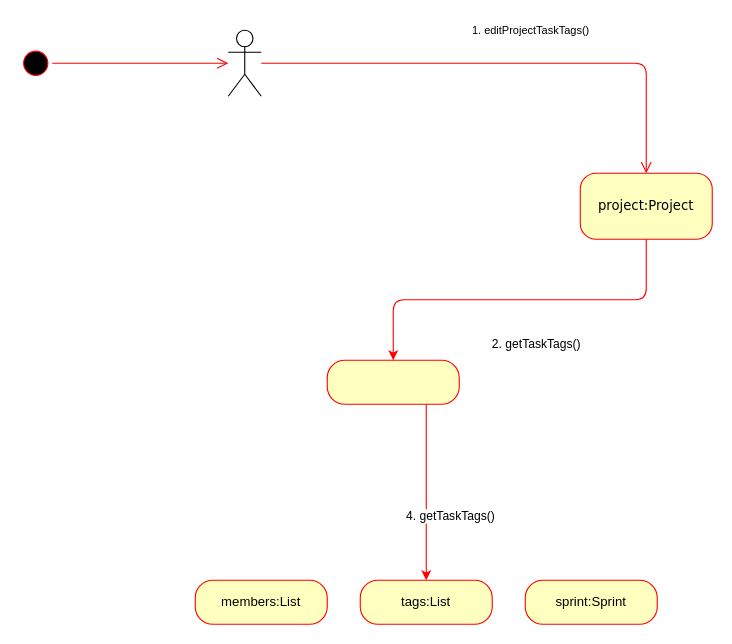
The diagram is 732 pixels wide and 644 high, and some of its shapes have lost their labels. Here are the shapes that lost their labels. From the top down, the centre of each, then its label:
At point (244, 62): "Actor".
At point (392, 381): "task:Task".
